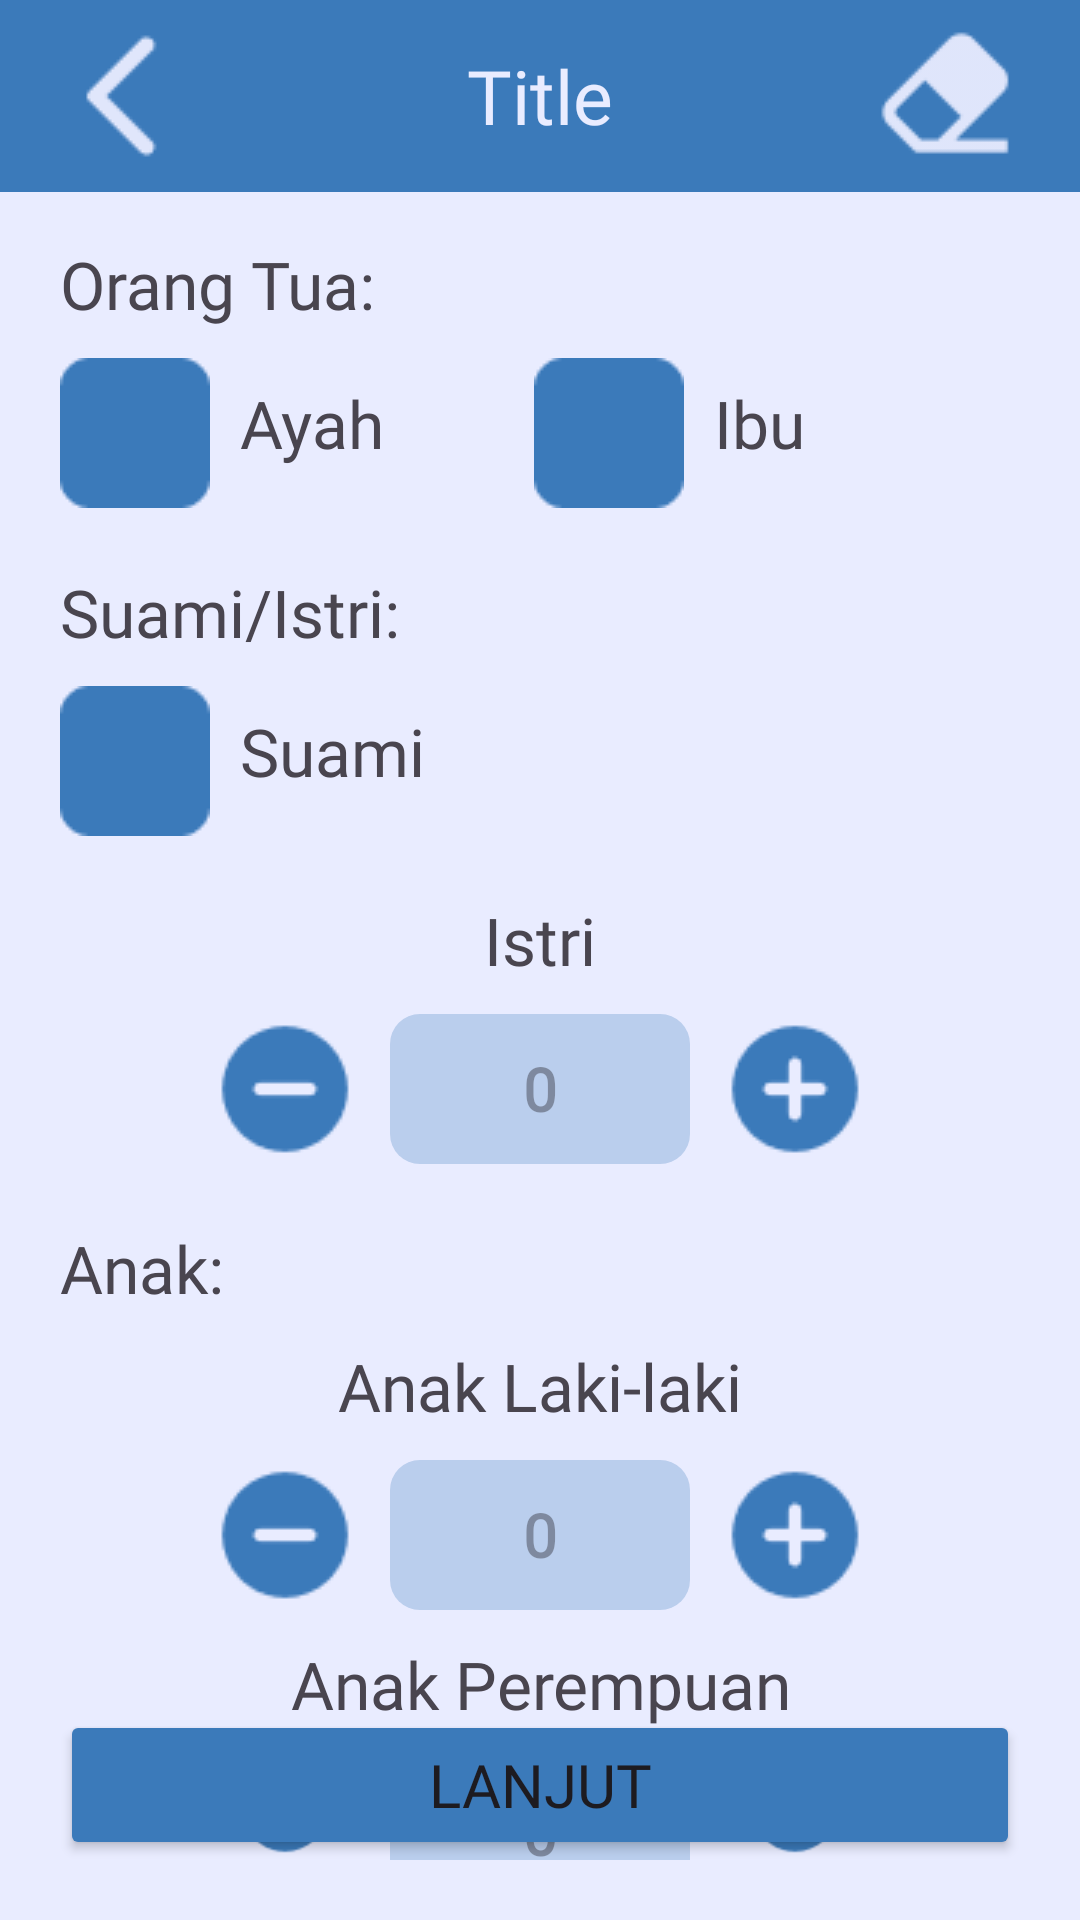

Point at icon controls on the screen. Image size 1080×1920, points as point (x, y).
back: point (121, 96)
clear: point (945, 93)
